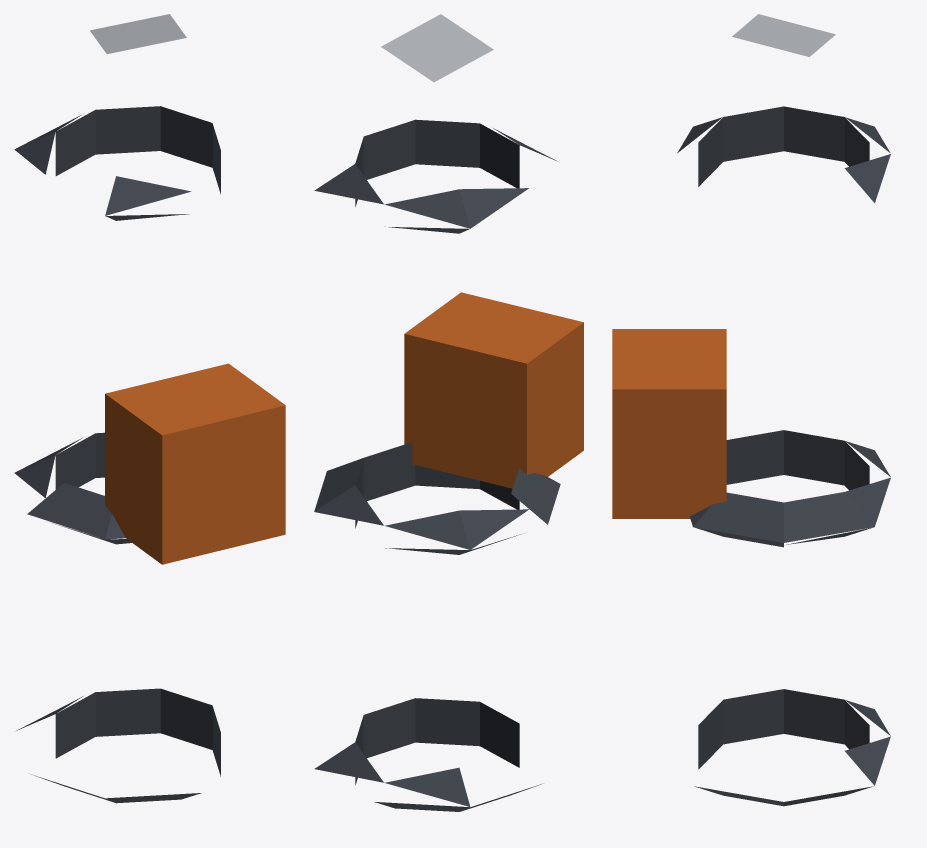
The model's file is droid-leg-reinforcements.lod.glb.
The picture shows the model from 3 angles, left to right: view 1: azimuth 30°, elevation 25°; view 2: azimuth 150°, elevation 25°; view 3: azimuth 270°, elevation 25°; orthographic projection.
Parts seen in each view (by area): view 1: m; view 2: m; view 3: m.
Part boxes in pixels (bbox=[...]): m: bbox=[14, 14, 285, 803]; m: bbox=[314, 14, 583, 811]; m: bbox=[612, 14, 890, 806].
Size of the model in its own units: 0.1 by 0.3418 by 0.1167.
